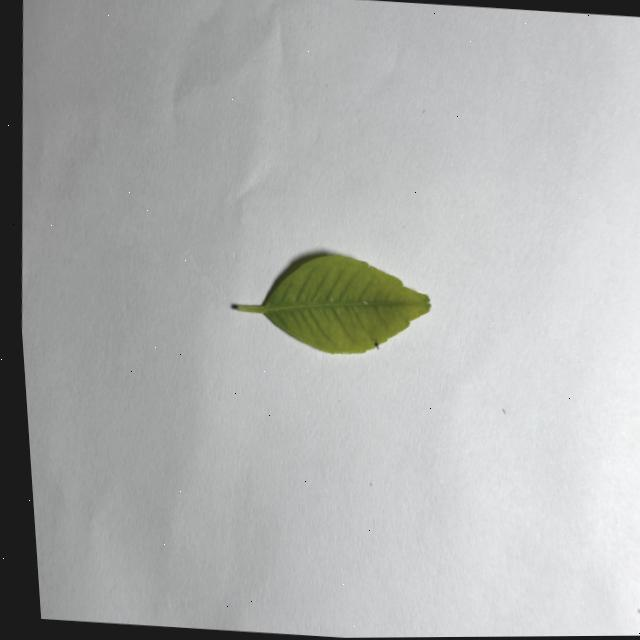greening: (235, 255, 429, 353)
